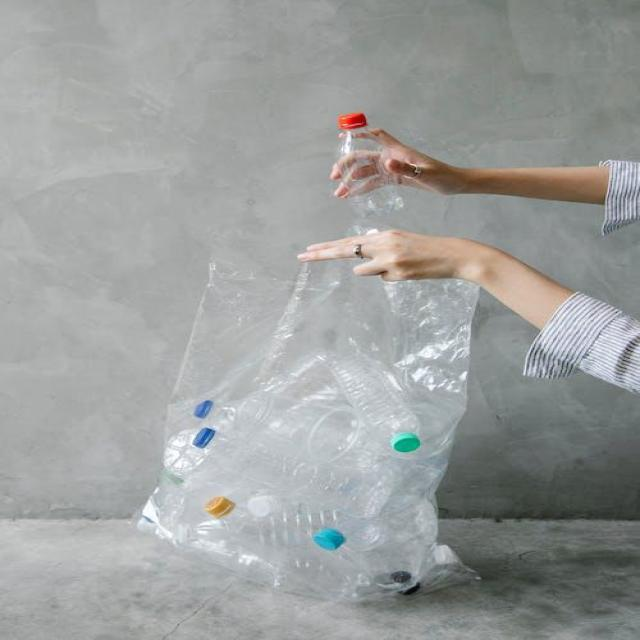plastic: (320, 108, 428, 248)
trash: (190, 417, 389, 567), (190, 247, 330, 386)
